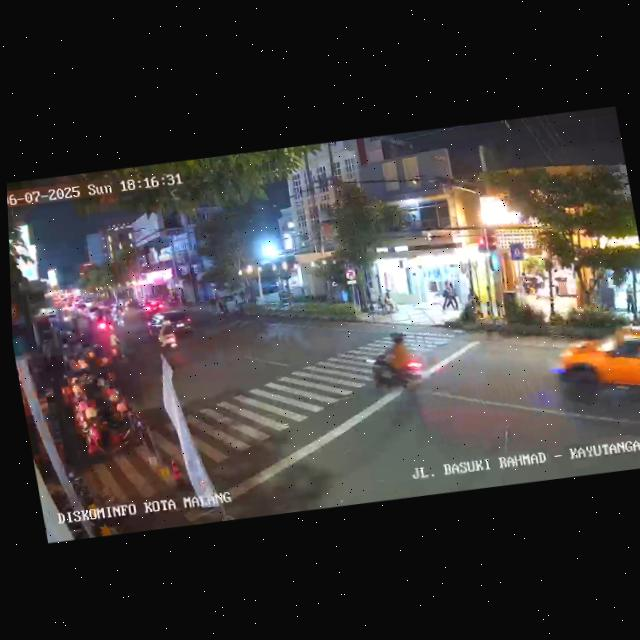car: (547, 319, 640, 429), (144, 306, 196, 340), (138, 298, 168, 319)
motorcycle: (364, 329, 432, 401), (152, 318, 182, 354), (103, 324, 124, 362)
person: (622, 283, 637, 317), (437, 282, 453, 313), (447, 281, 460, 311), (635, 282, 640, 313)
